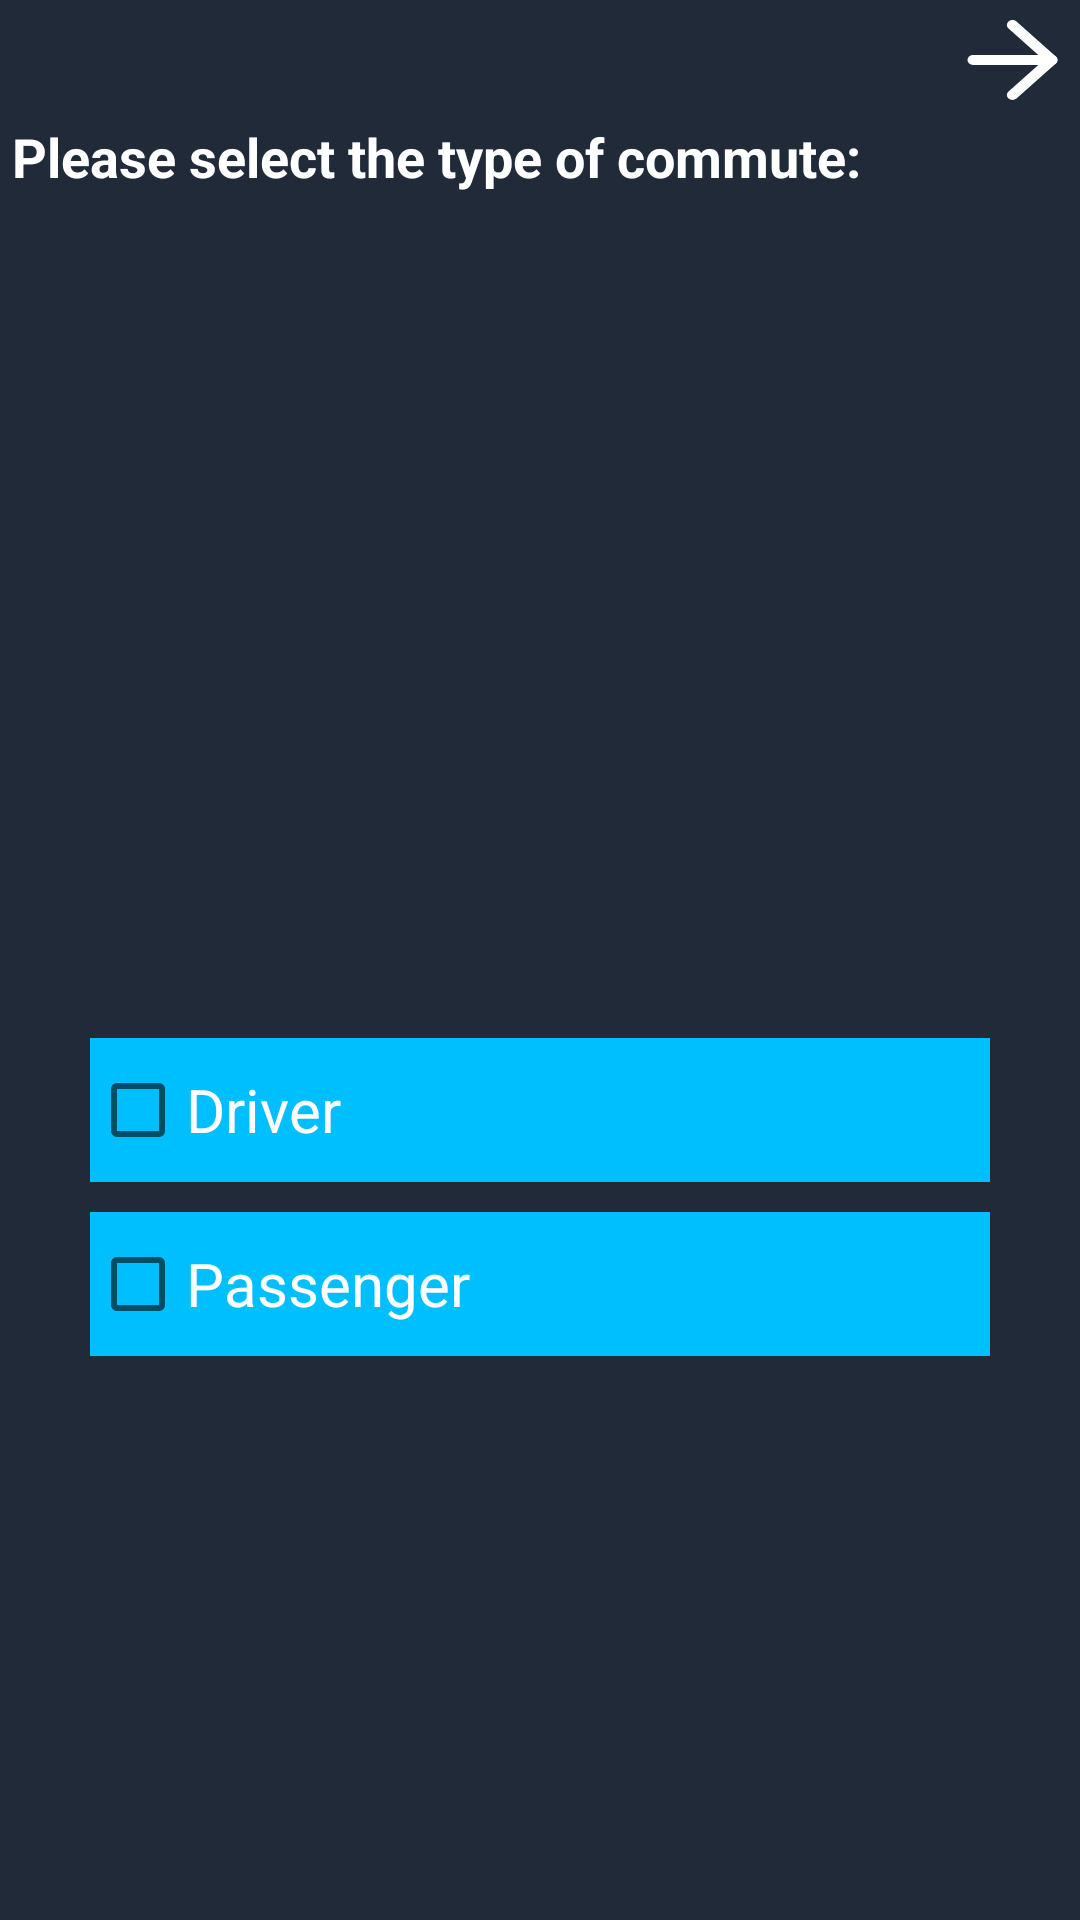

Screen size 1080*1920. Icon name, then its center in pixels as point (x, y):
arrow right: point (1012, 60)
